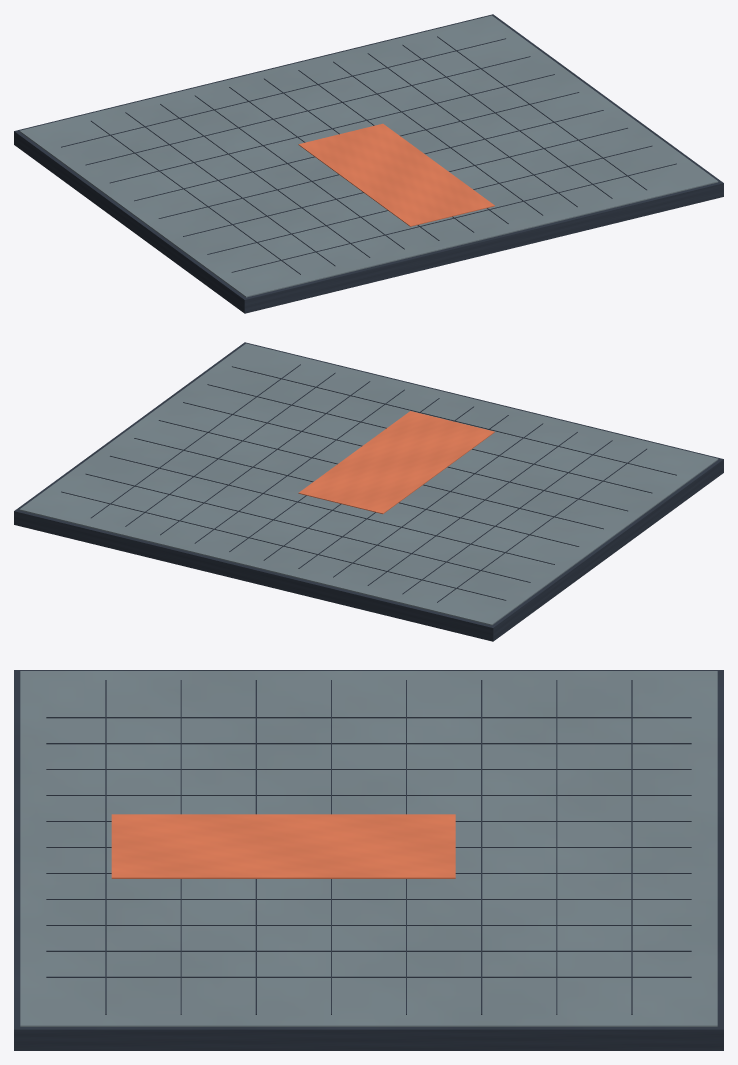
The model's file is atlas100-s022-a07.glb.
3 renders of one model, top to bottom at view 1: azimuth 30°, elevation 25°; view 2: azimuth 150°, elevation 25°; view 3: azimuth 270°, elevation 25°, orthographic. The views are drawn at different scales.
Parts seen in each view (by area): view 1: atlas100-s022-a07:part-001, atlas100-s022-a07:part-000, atlas100-s022-a07:part-021, atlas100-s022-a07:part-020, atlas100-s022-a07:part-014, atlas100-s022-a07:part-013, atlas100-s022-a07:part-015, atlas100-s022-a07:part-016, atlas100-s022-a07:part-018, atlas100-s022-a07:part-019, atlas100-s022-a07:part-017; view 2: atlas100-s022-a07:part-001, atlas100-s022-a07:part-000, atlas100-s022-a07:part-021, atlas100-s022-a07:part-013, atlas100-s022-a07:part-015, atlas100-s022-a07:part-014, atlas100-s022-a07:part-020, atlas100-s022-a07:part-017, atlas100-s022-a07:part-019, atlas100-s022-a07:part-016, atlas100-s022-a07:part-018; view 3: atlas100-s022-a07:part-001, atlas100-s022-a07:part-000, atlas100-s022-a07:part-021, atlas100-s022-a07:part-011, atlas100-s022-a07:part-012, atlas100-s022-a07:part-002, atlas100-s022-a07:part-003, atlas100-s022-a07:part-013, atlas100-s022-a07:part-014, atlas100-s022-a07:part-015, atlas100-s022-a07:part-020, atlas100-s022-a07:part-010 (+3 smaller).
Part boxes in pixels (<box>): atlas100-s022-a07:part-001: <box>19,15,718,297</box>; atlas100-s022-a07:part-000: <box>14,14,723,313</box>; atlas100-s022-a07:part-021: <box>298,123,494,226</box>; atlas100-s022-a07:part-020: <box>231,163,676,272</box>; atlas100-s022-a07:part-014: <box>85,56,530,165</box>; atlas100-s022-a07:part-013: <box>61,38,505,147</box>; atlas100-s022-a07:part-015: <box>110,74,554,183</box>; atlas100-s022-a07:part-016: <box>134,92,579,201</box>; atlas100-s022-a07:part-018: <box>183,127,627,236</box>; atlas100-s022-a07:part-019: <box>207,145,652,254</box>; atlas100-s022-a07:part-017: <box>158,110,603,218</box>; atlas100-s022-a07:part-001: <box>19,343,718,625</box>; atlas100-s022-a07:part-000: <box>14,342,723,641</box>; atlas100-s022-a07:part-021: <box>298,411,494,513</box>; atlas100-s022-a07:part-013: <box>61,491,506,600</box>; atlas100-s022-a07:part-015: <box>110,455,554,564</box>; atlas100-s022-a07:part-014: <box>85,473,530,582</box>; atlas100-s022-a07:part-020: <box>232,366,676,475</box>; atlas100-s022-a07:part-017: <box>158,420,603,529</box>; atlas100-s022-a07:part-019: <box>207,384,652,493</box>; atlas100-s022-a07:part-016: <box>134,438,579,546</box>; atlas100-s022-a07:part-018: <box>183,402,627,511</box>; atlas100-s022-a07:part-001: <box>20,671,717,1026</box>; atlas100-s022-a07:part-000: <box>14,670,723,1050</box>; atlas100-s022-a07:part-021: <box>111,814,455,878</box>; atlas100-s022-a07:part-011: <box>46,950,691,951</box>; atlas100-s022-a07:part-012: <box>46,976,691,977</box>; atlas100-s022-a07:part-002: <box>46,717,691,718</box>; atlas100-s022-a07:part-003: <box>46,743,691,744</box>; atlas100-s022-a07:part-013: <box>631,680,632,1014</box>; atlas100-s022-a07:part-014: <box>556,680,557,1014</box>; atlas100-s022-a07:part-015: <box>481,680,482,1014</box>; atlas100-s022-a07:part-020: <box>105,680,106,1014</box>; atlas100-s022-a07:part-010: <box>46,925,691,925</box>.
Bounding box in the file's own units: 12.46 × 0.404 × 10.4.
Materials: 3 (3 with a texture image).
